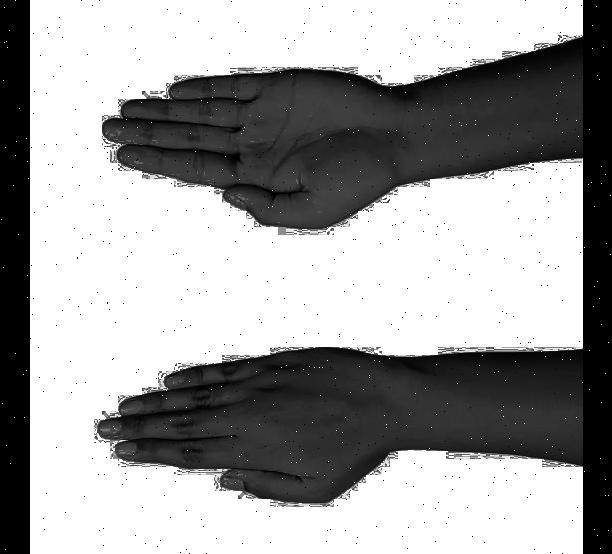Paper: (92, 342, 400, 508), (96, 65, 398, 232)
